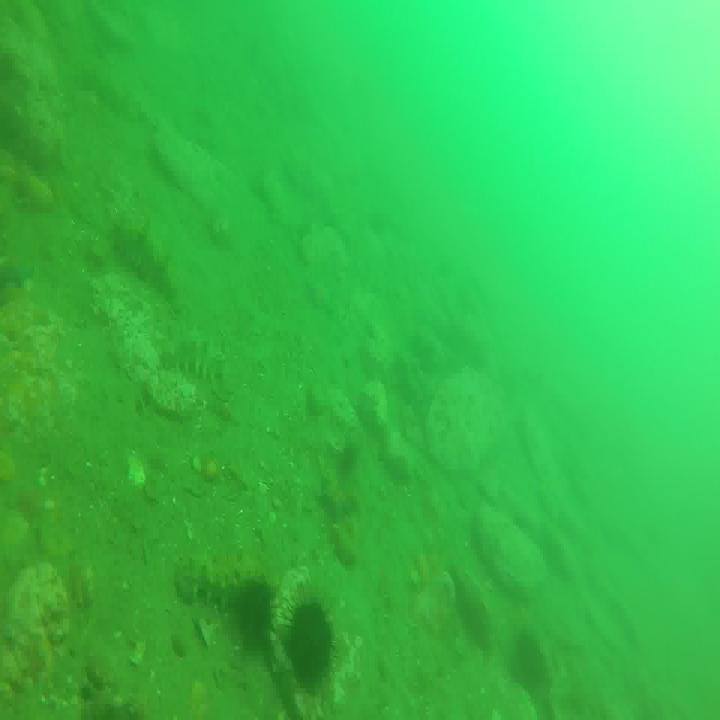echinus: (291, 595, 333, 686), (238, 582, 275, 643)
holothurian: (113, 211, 181, 300), (178, 548, 258, 612), (160, 328, 228, 386)
